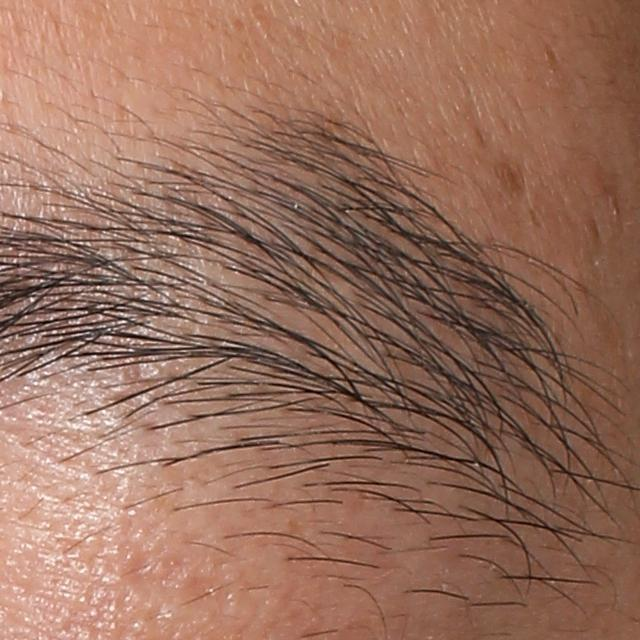melasma: (491, 160, 526, 199)
